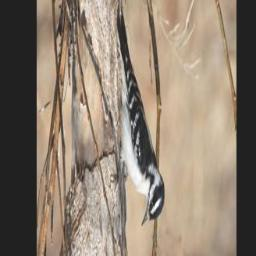Woodpecker: (110, 1, 165, 228)
